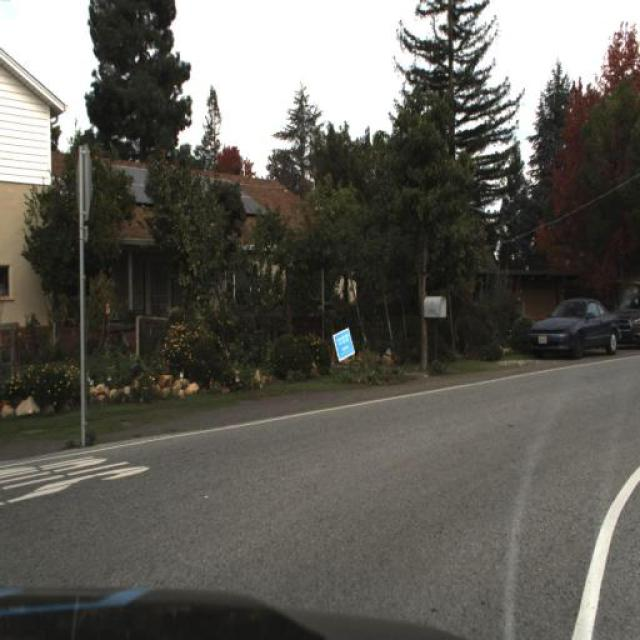car: (527, 298, 622, 362), (614, 278, 640, 361)
